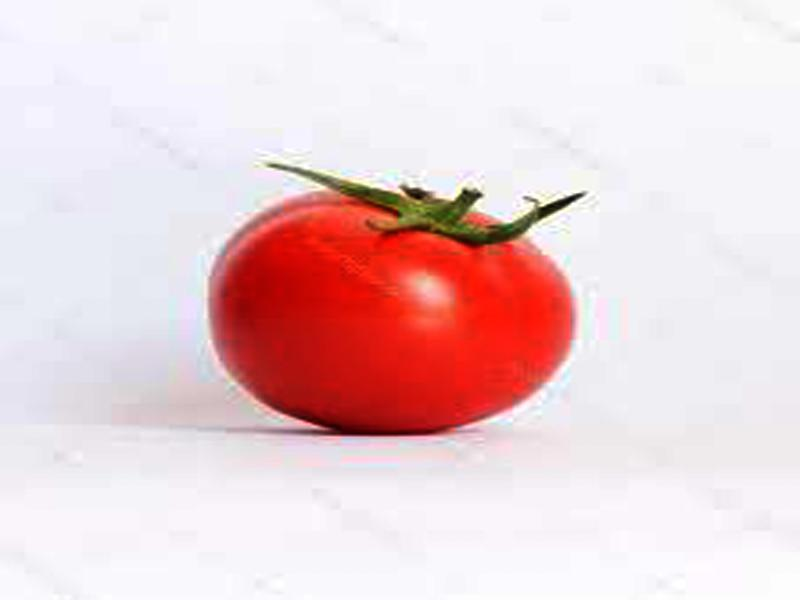Tomato: (203, 194, 573, 435)
